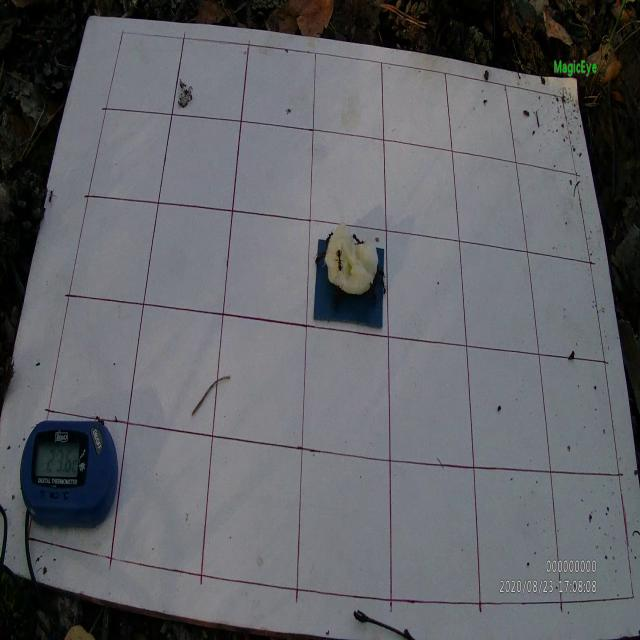Ant: (334, 241, 346, 276), (332, 278, 344, 310), (313, 248, 327, 266), (45, 189, 58, 207), (324, 229, 335, 245)
